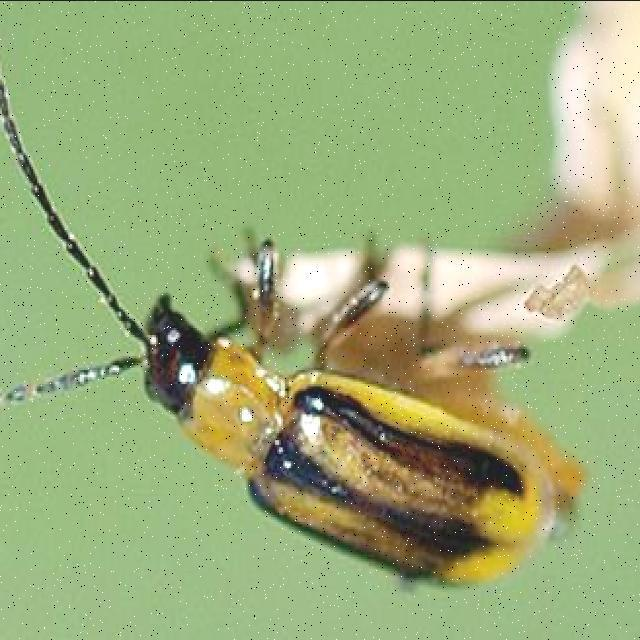trips: (0, 42, 558, 591)
